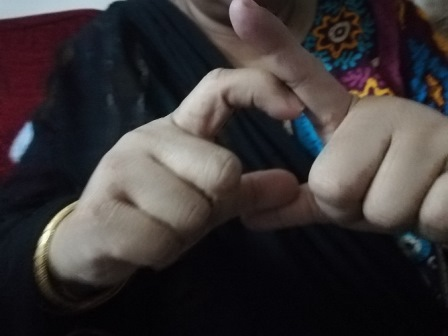kh: (127, 3, 436, 240)
